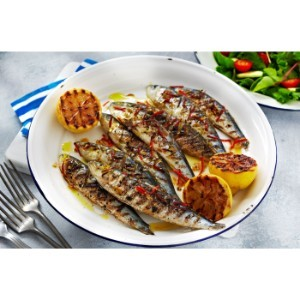sardine_brain food: (79, 121, 217, 186)
